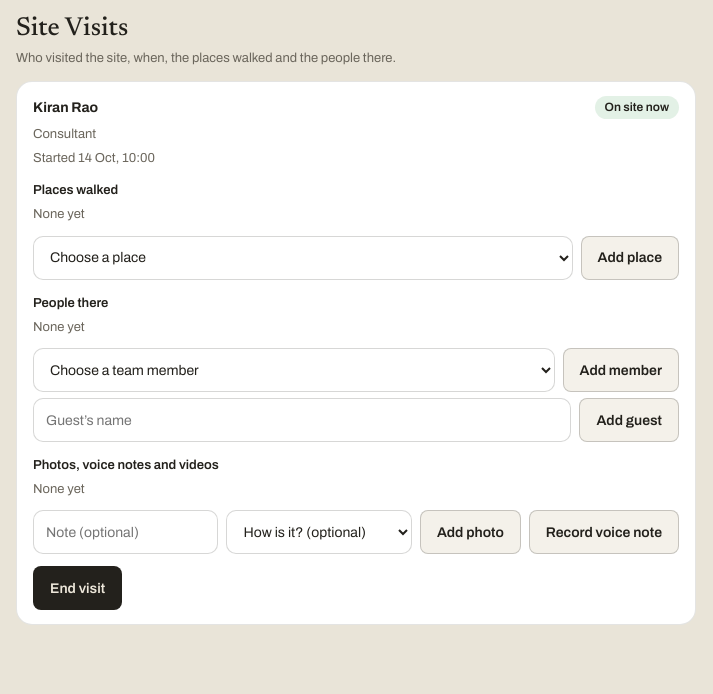
Test case: Stage 1 voice notes on a visit › does not keep a recording shorter than a second
Click the button "Record voice note". click: {"x": 604, "y": 532}
box: [529,510,679,554]
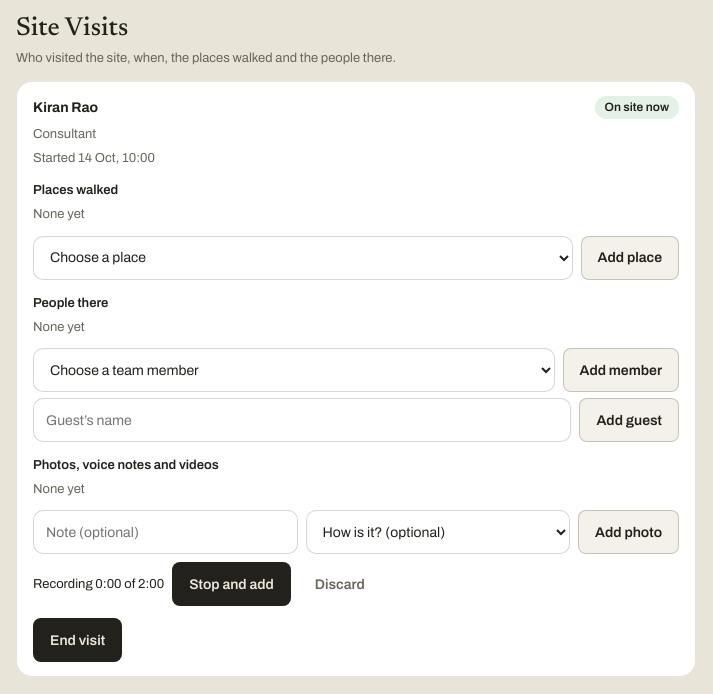
Click the button "Stop and add". click: {"x": 232, "y": 584}
box: [172,562,291,606]
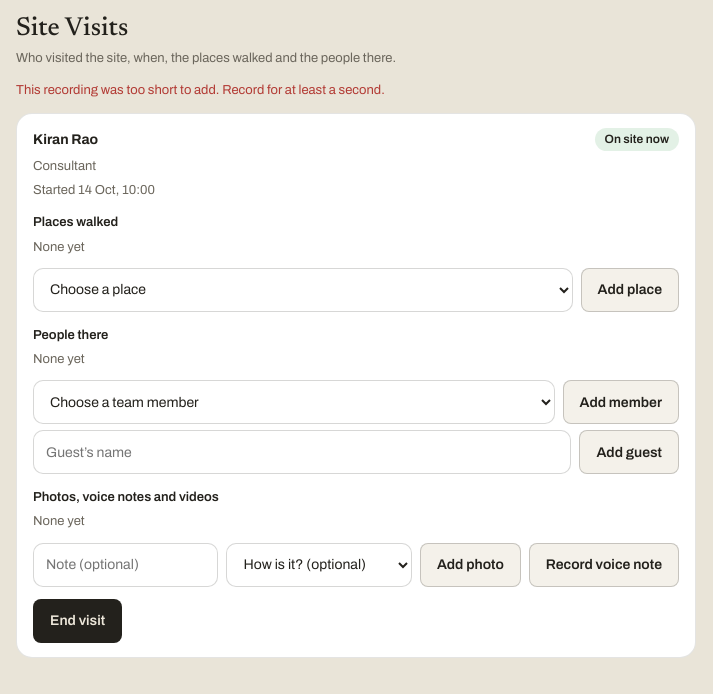
Now the message reads "This recording was too short to add. Record for at least a second.", box [16,83,385,97]
